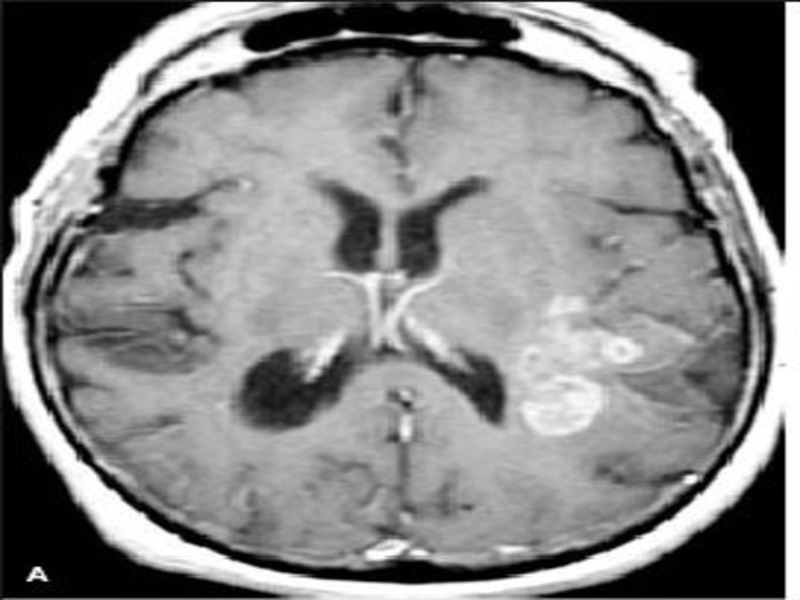tumor: (502, 289, 653, 463)
